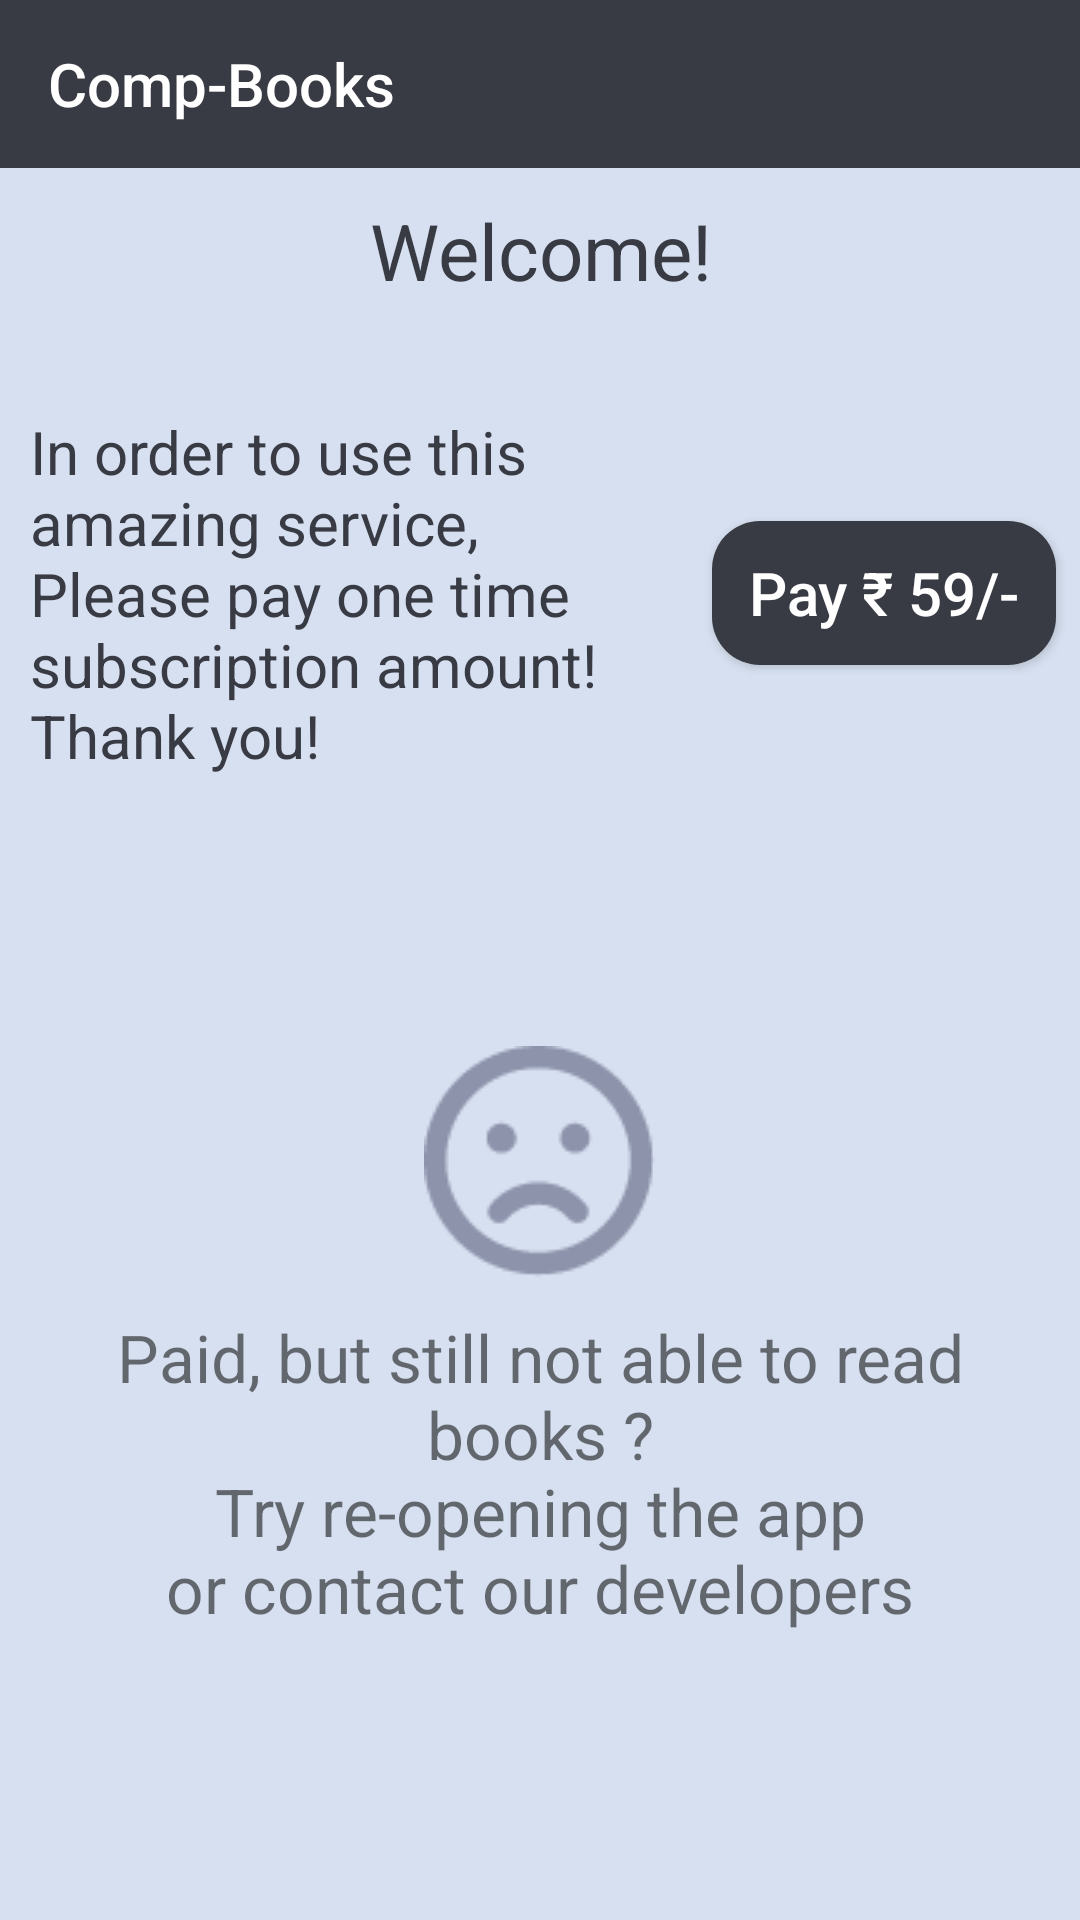

Named icons in this screenshot (1080w x 1920h) and their centers, (x=x, y=y):
sad face: (x=538, y=1160)
